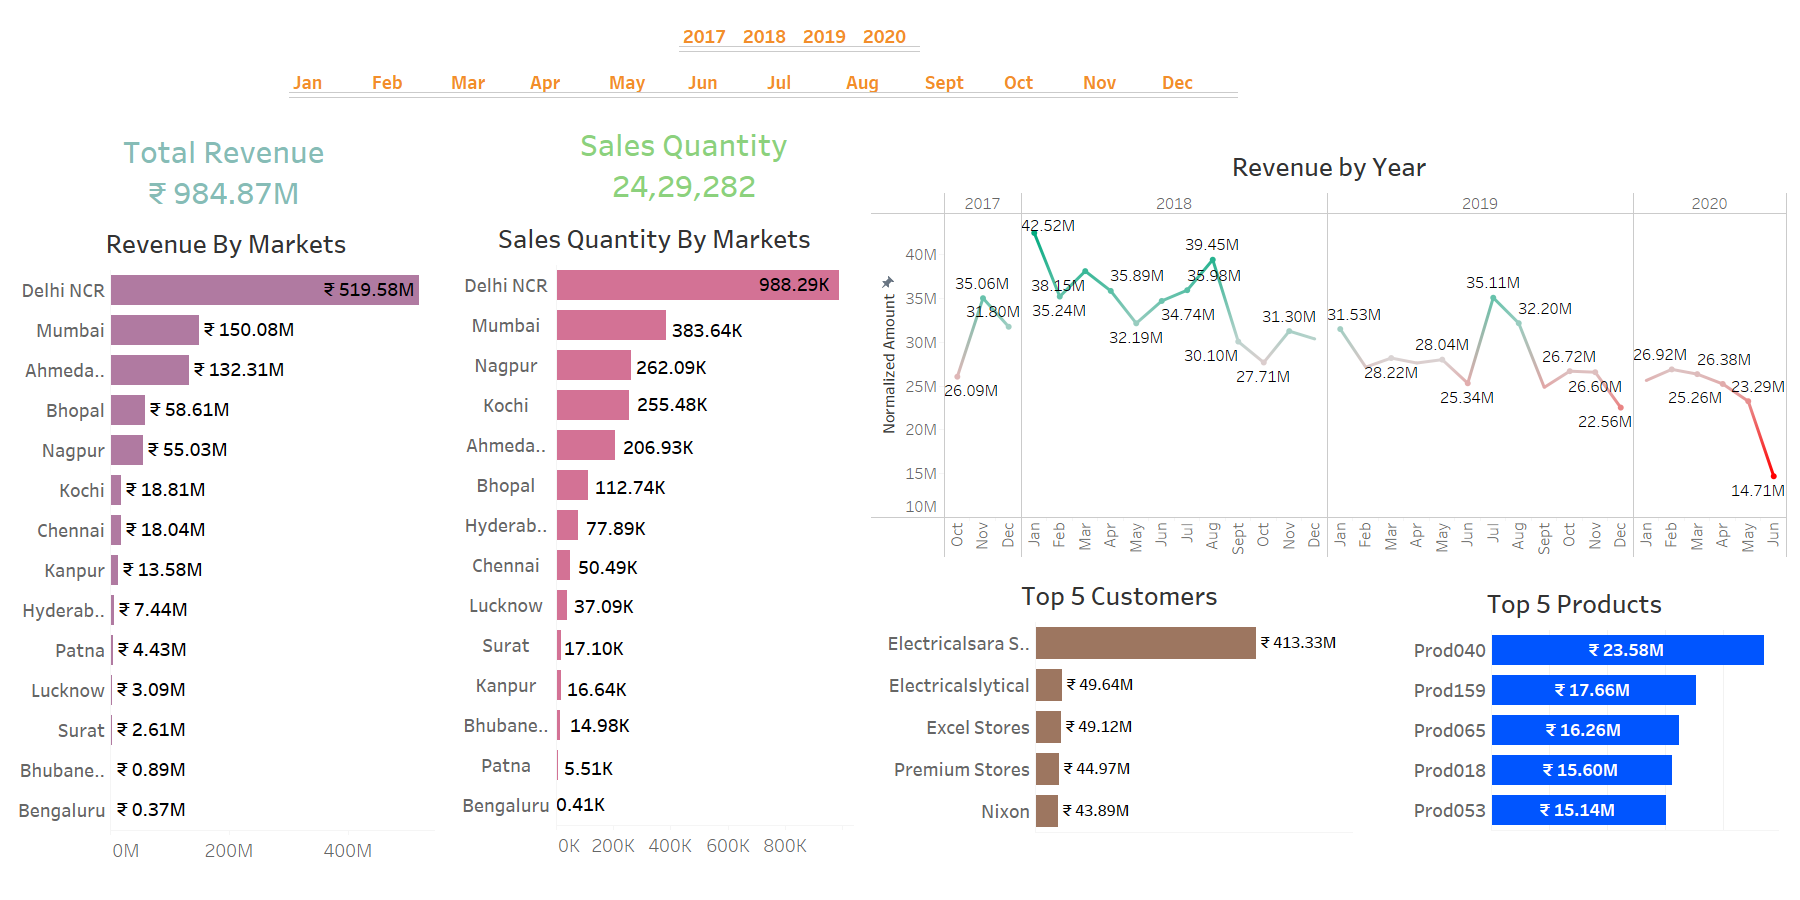

Layout of this report page (visuals, bound fields, positions):
{"tool":"tableau","page":{"name":"Sales Insights","canvas":[1800,900],"ordinal":1},"visuals":[{"type":"worksheet","title":"Year","mark":"Automatic","cols":["cy_date"],"box":[679,11,324,44]},{"type":"worksheet","title":"Month","mark":"Automatic","cols":["cy_date"],"box":[289.2,57,1154.4,59]},{"type":"worksheet","title":"Quantity","mark":"Automatic","box":[574,109,233,109]},{"type":"worksheet","title":"Revenue","mark":"Automatic","box":[114,116,225,113]},{"type":"worksheet","title":"Revenue by Year","mark":"Automatic","rows":["Calculation_1623829176487309312"],"cols":["cy_date","cy_date"],"box":[871,143,916,415]},{"type":"worksheet","title":"Sales Quantity By Markets","mark":"Automatic","rows":["markets_name"],"cols":["sales_qty"],"box":[456,215,397,672]},{"type":"worksheet","title":"Revenue By Markets","mark":"Automatic","rows":["markets_name"],"cols":["Calculation_1623829176487309312"],"box":[18,220,416,673]},{"type":"worksheet","title":"Top 5 Customers","mark":"Automatic","rows":["custmer_name"],"cols":["Calculation_1623829176487309312"],"box":[887,572,465,296]},{"type":"worksheet","title":"Top 5 Products","mark":"Automatic","rows":["product_code (products)"],"cols":["Calculation_1623829176487309312"],"box":[1371,580,407,300]}]}

Visuals, with their boxes in screenshot pixels (x1, y1, x2, y2), scaled from the page's 1800x900 canvas onto the 1800x900 screenshot:
"Year" worksheet: x1=679, y1=11, x2=1003, y2=55
"Month" worksheet: x1=289, y1=57, x2=1444, y2=116
"Quantity" worksheet: x1=574, y1=109, x2=807, y2=218
"Revenue" worksheet: x1=114, y1=116, x2=339, y2=229
"Revenue by Year" worksheet: x1=871, y1=143, x2=1787, y2=558
"Sales Quantity By Markets" worksheet: x1=456, y1=215, x2=853, y2=887
"Revenue By Markets" worksheet: x1=18, y1=220, x2=434, y2=893
"Top 5 Customers" worksheet: x1=887, y1=572, x2=1352, y2=868
"Top 5 Products" worksheet: x1=1371, y1=580, x2=1778, y2=880
